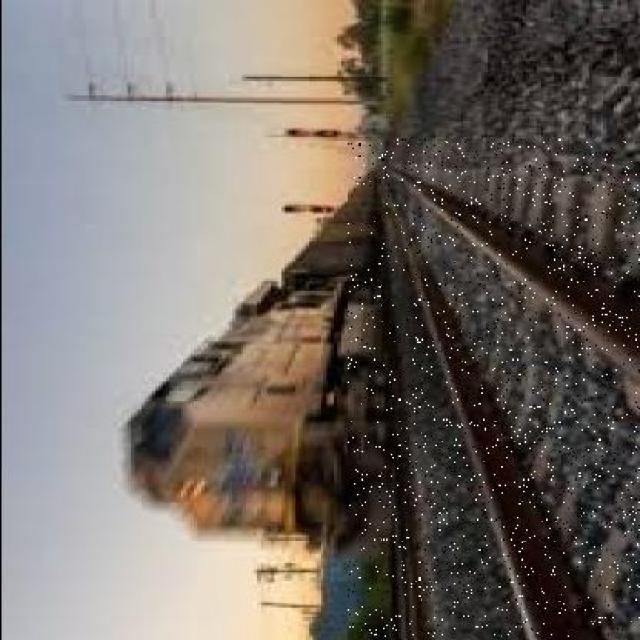rail: (347, 139, 638, 637)
